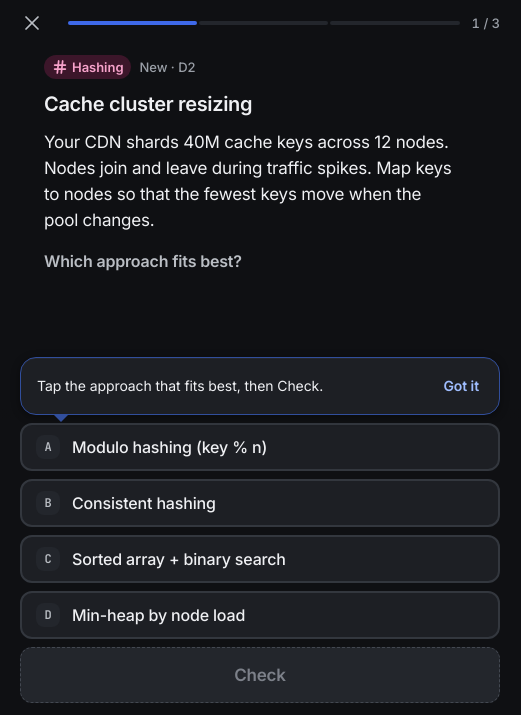
Scenario: Validation: Big-O › shows 'Check 1 of 1', the Time chip, the question as the heading and a 2-column picker in ascending order
The width and height of the screenshot is (521, 715).
Click the radio button labelled "Consistent hashing" at (144, 503), box [20,479,500,527]
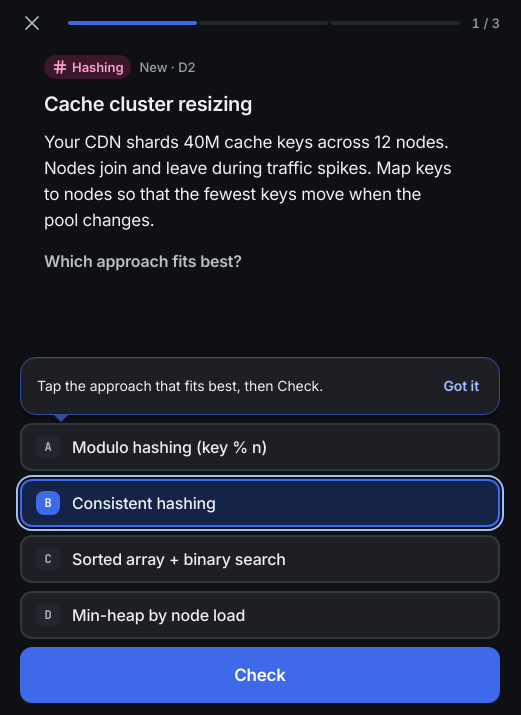
Click the button "Check" at (260, 675), box [20,647,500,703]
Wait 400 ms
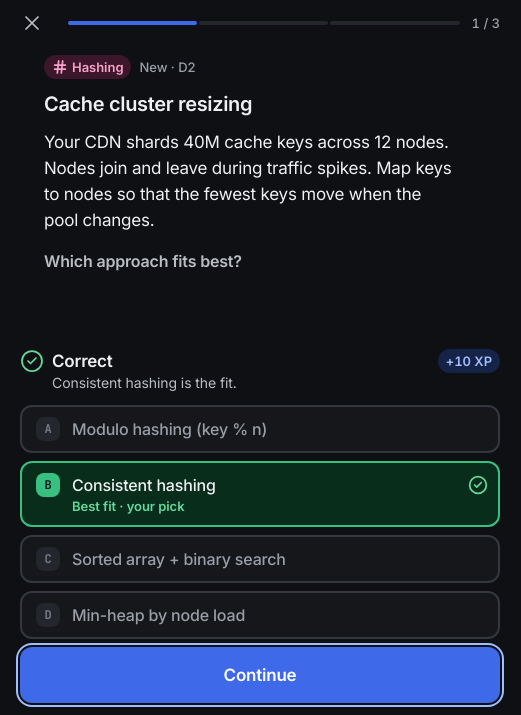
Click the button "Continue" at (260, 675), box [20,647,500,703]
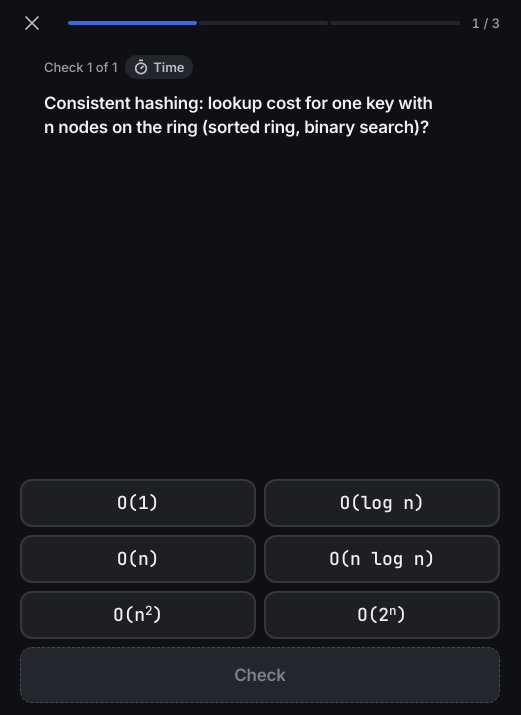
Check: the text "Check 1 of 1" is shown, box [44,58,117,76]
Check: the text "Time" is shown, box [125,55,192,79]
